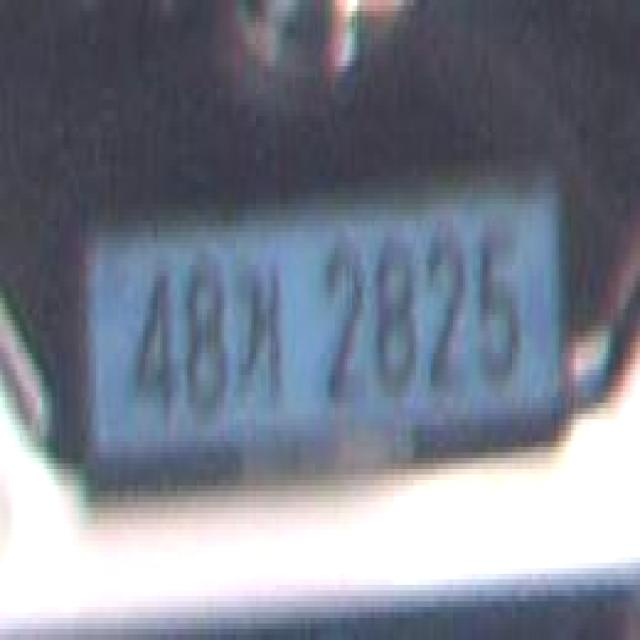EV_plate: (77, 171, 571, 513)
